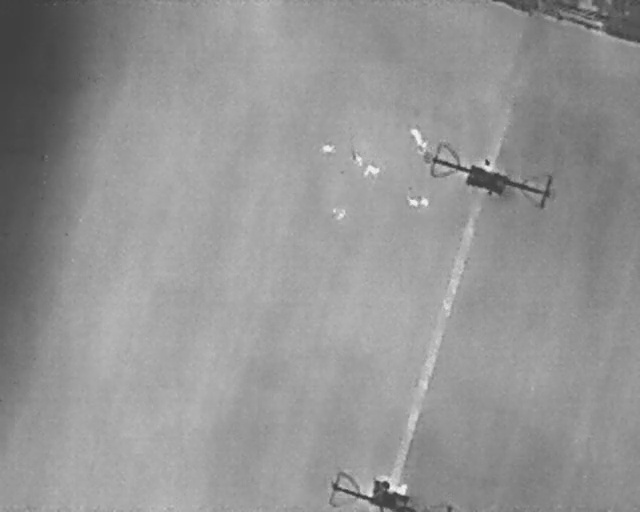Person: (405, 124, 430, 150), (348, 148, 366, 169), (408, 195, 429, 208), (363, 163, 381, 177), (331, 207, 347, 221), (320, 143, 337, 154)
